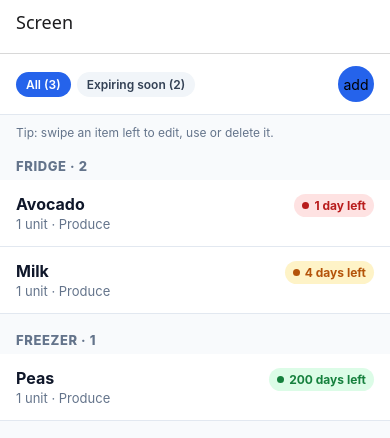
Test: InventoryScreen › groups by storage with colour-coded urgency
Expected: the text "Fridge · 2" is shown, [0,140,389,180]
Expected: the text "Freezer · 1" is shown, [0,314,389,354]
Click the button "Expiring soon (2)" at (136, 84), box [77,72,195,96]
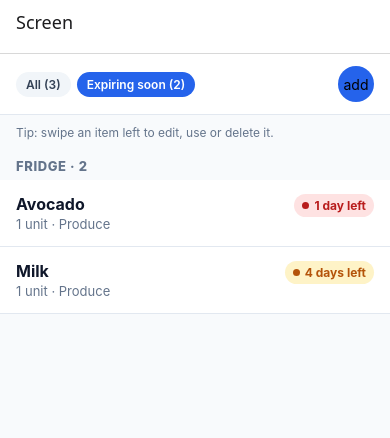
Result: the text "Peas" is gone
